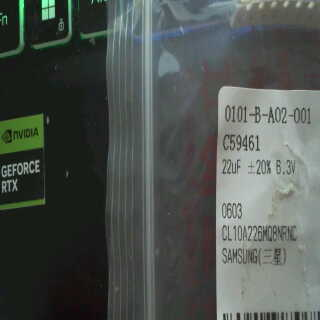22uF: (219, 156, 243, 175)
